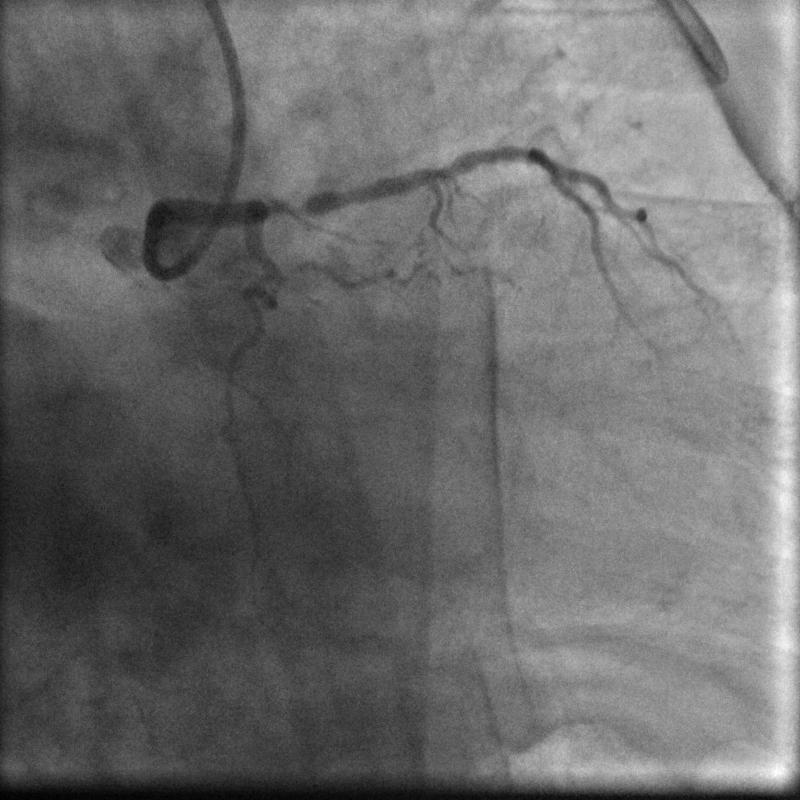Stenosis: (264, 189, 317, 219)
